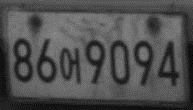0: (109, 39, 130, 85)
4: (157, 40, 180, 87)
6: (35, 37, 56, 83)
8: (12, 37, 34, 83)
9: (132, 39, 153, 87), (85, 40, 105, 85)
어: (58, 46, 82, 86)
